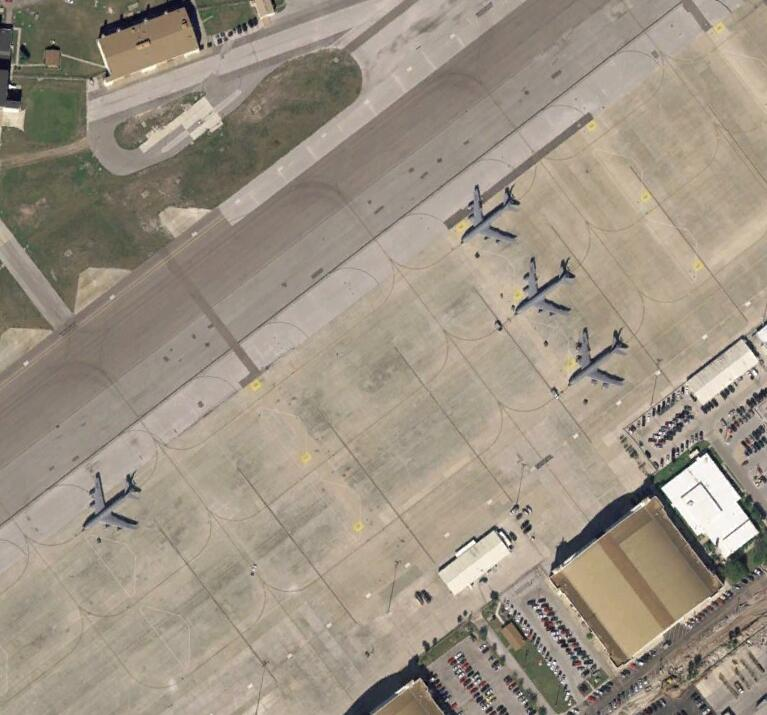A14: (566, 326, 629, 388), (460, 185, 524, 244), (514, 260, 579, 318), (81, 477, 144, 533)
